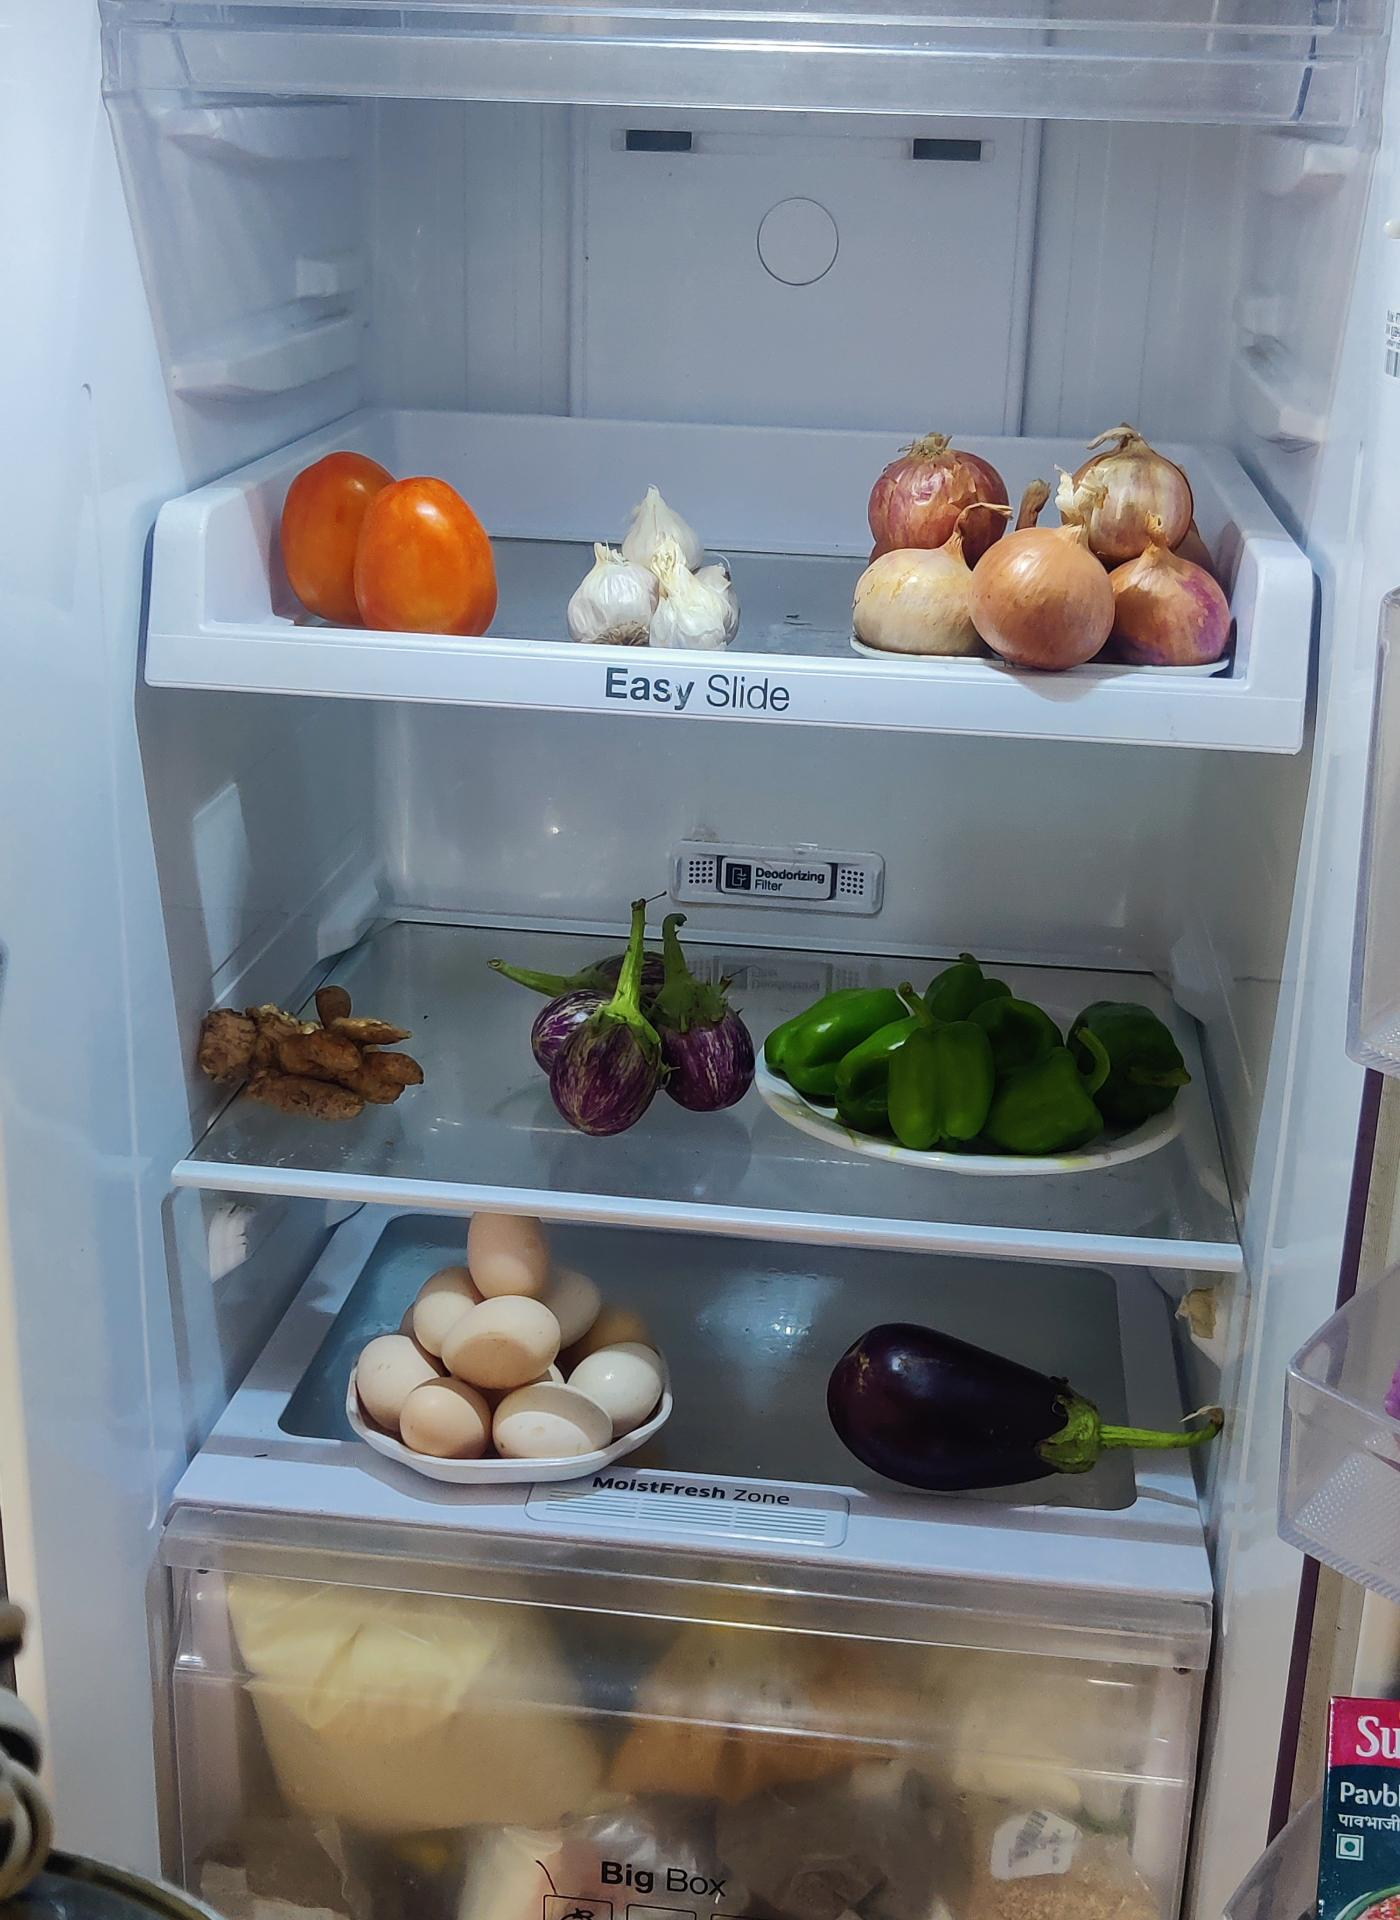brinjal: (819, 1318, 1135, 1510), (529, 930, 754, 1137)
capsicum: (762, 959, 1194, 1163)
egg: (343, 1210, 658, 1464)
garlic: (568, 489, 741, 656)
ginger: (195, 984, 428, 1125)
onion: (853, 428, 1248, 677)
tomato: (283, 458, 507, 644)
